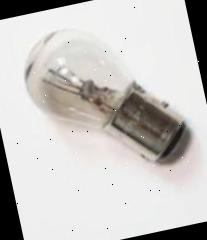lightbulb: (13, 6, 193, 187)
